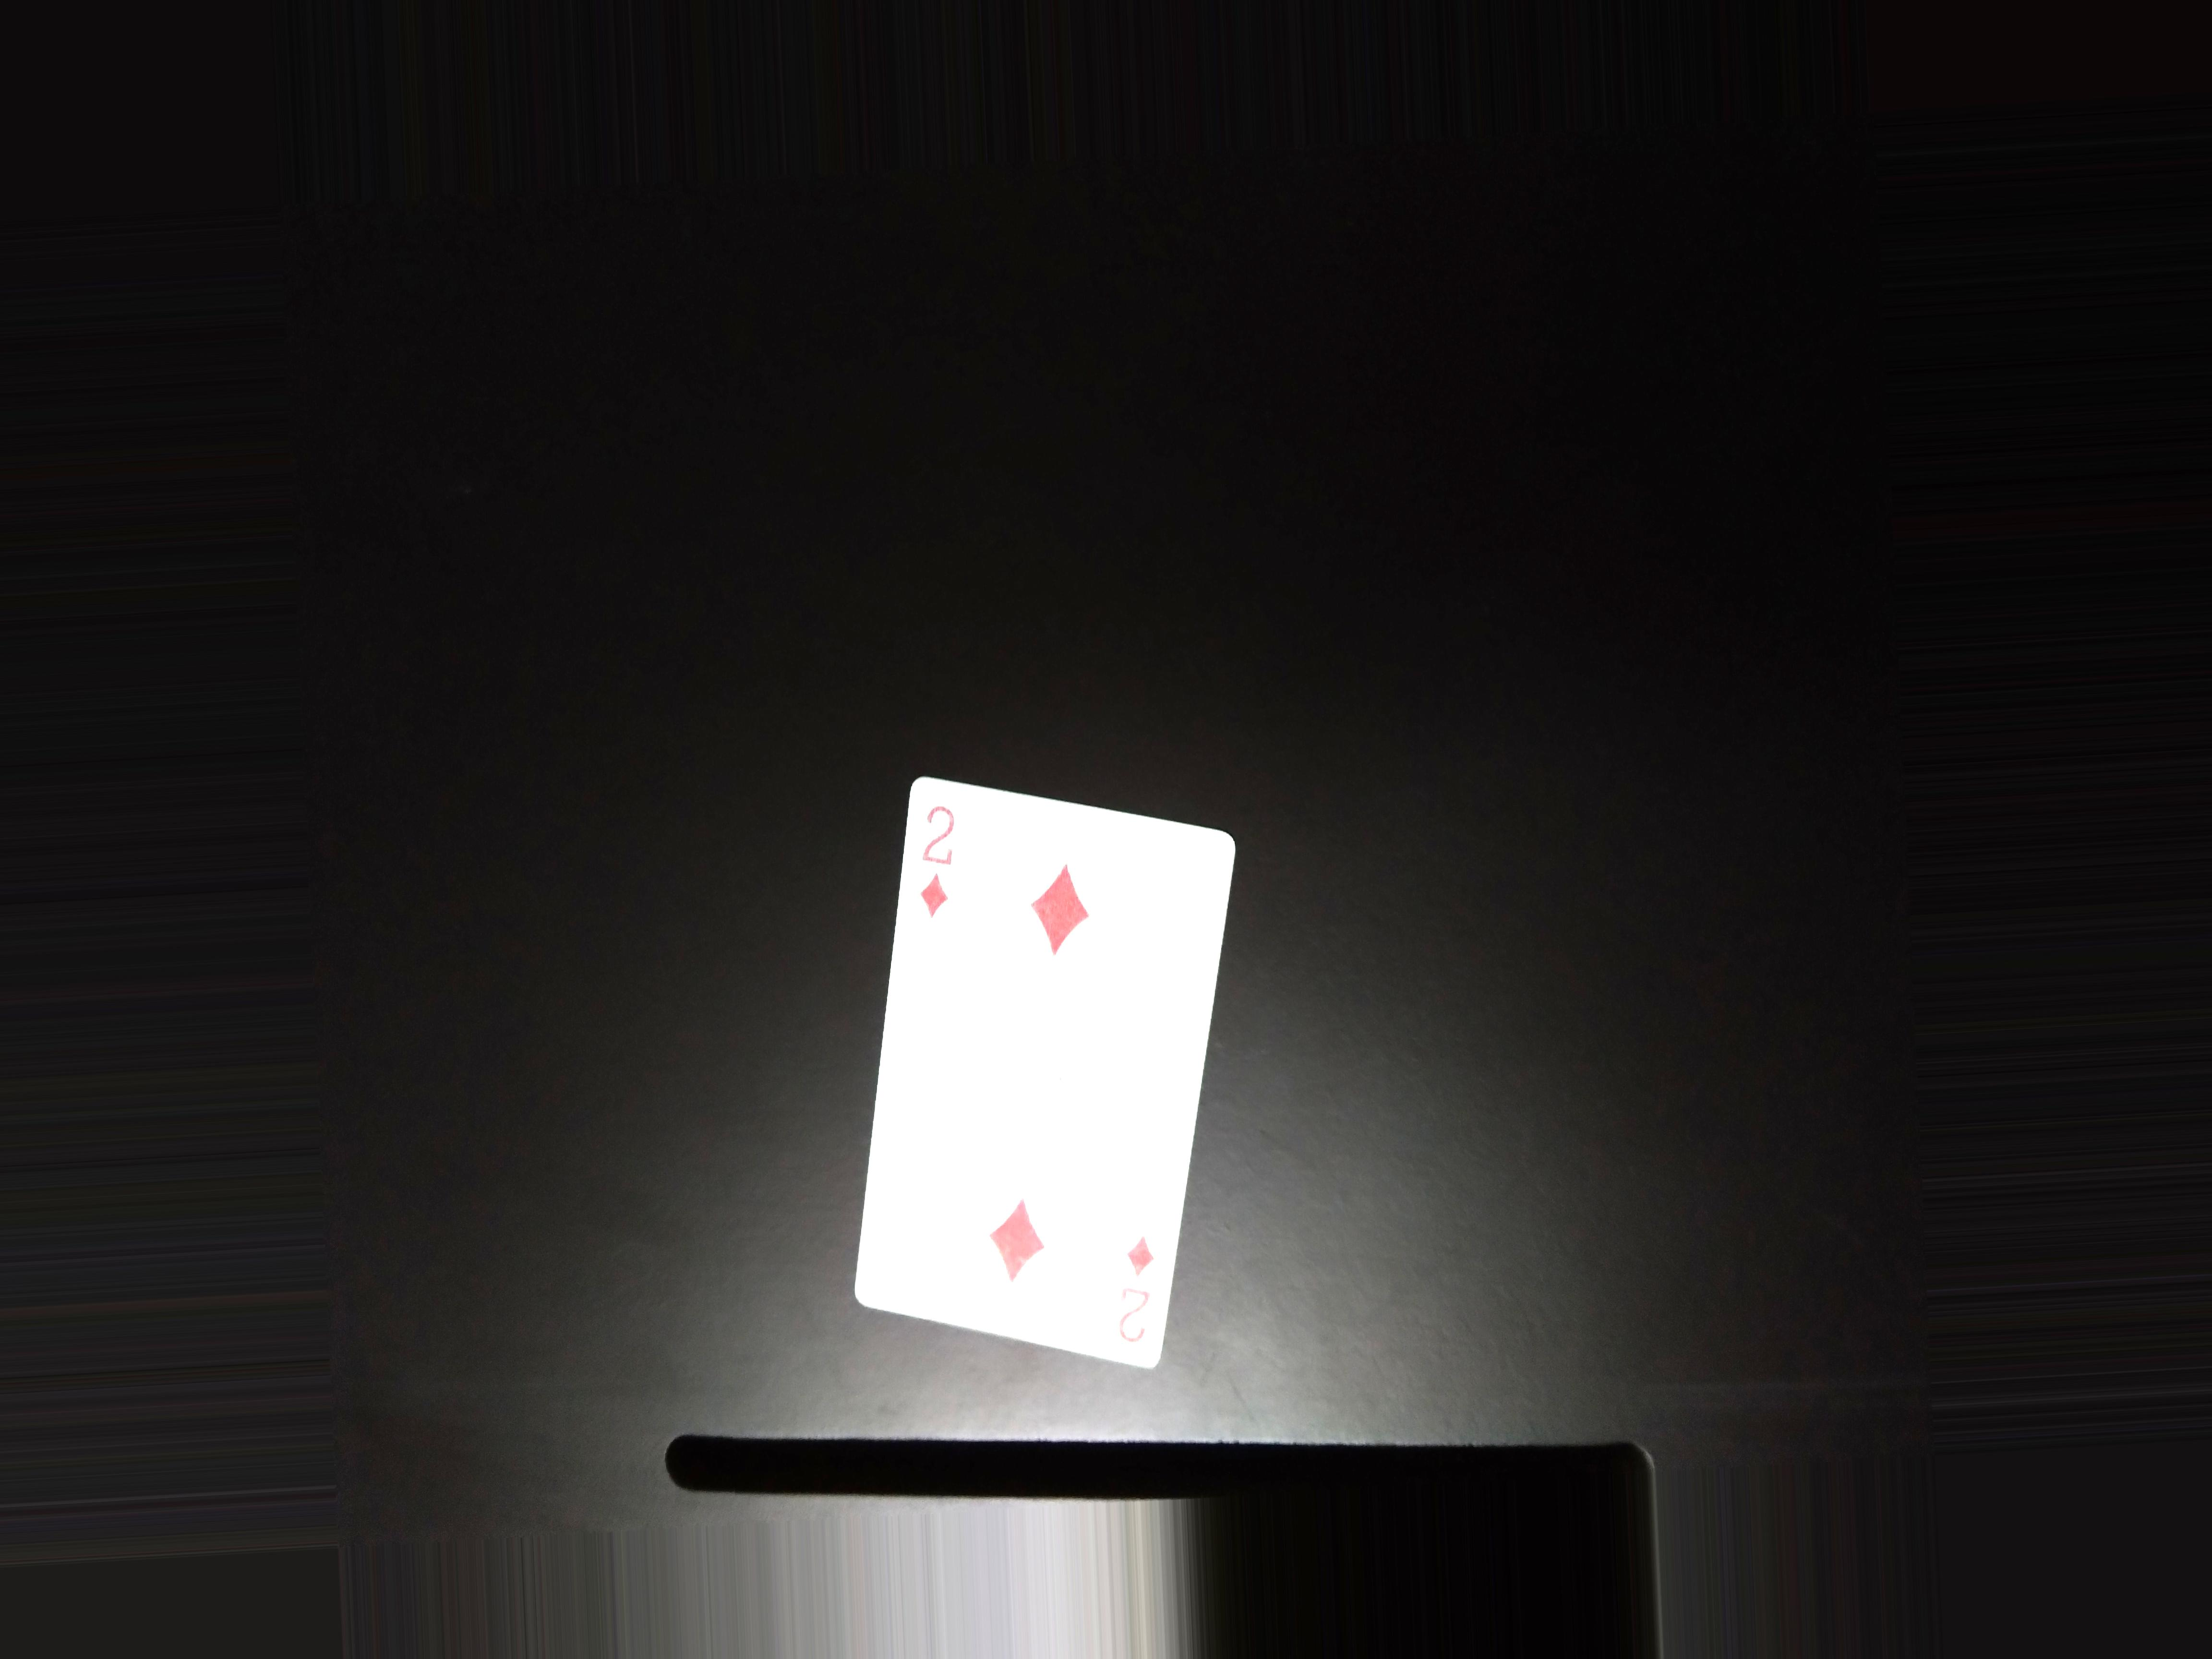2D: (909, 793, 965, 929)
